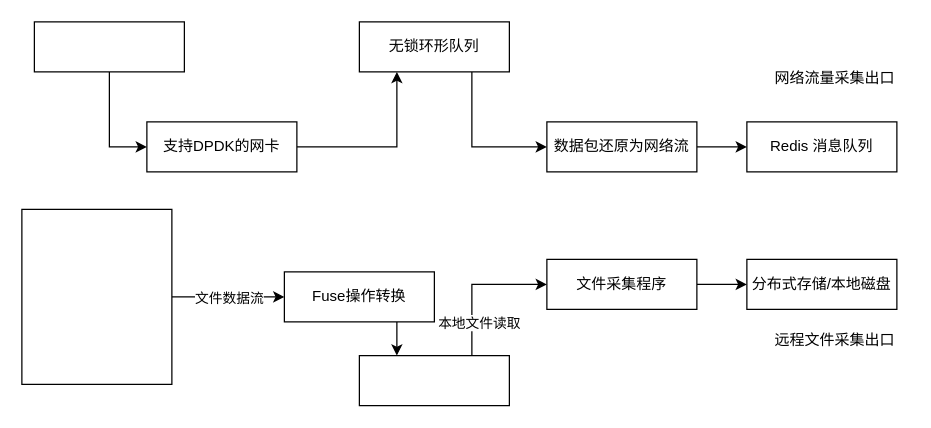
Some shapes in this 931 by 428 pixel diagram are drawn without their labels. The shapes that lost their labels are listed below. From the top down, each one's centre as x and y in pixels, then its label:
At (x=108, y=46): "交换机镜像流量".
At (x=96, y=296): "FTP SFTP SAMBA We bDAV 等远程文件服务".
At (x=433, y=380): "本地文件系统接口".
